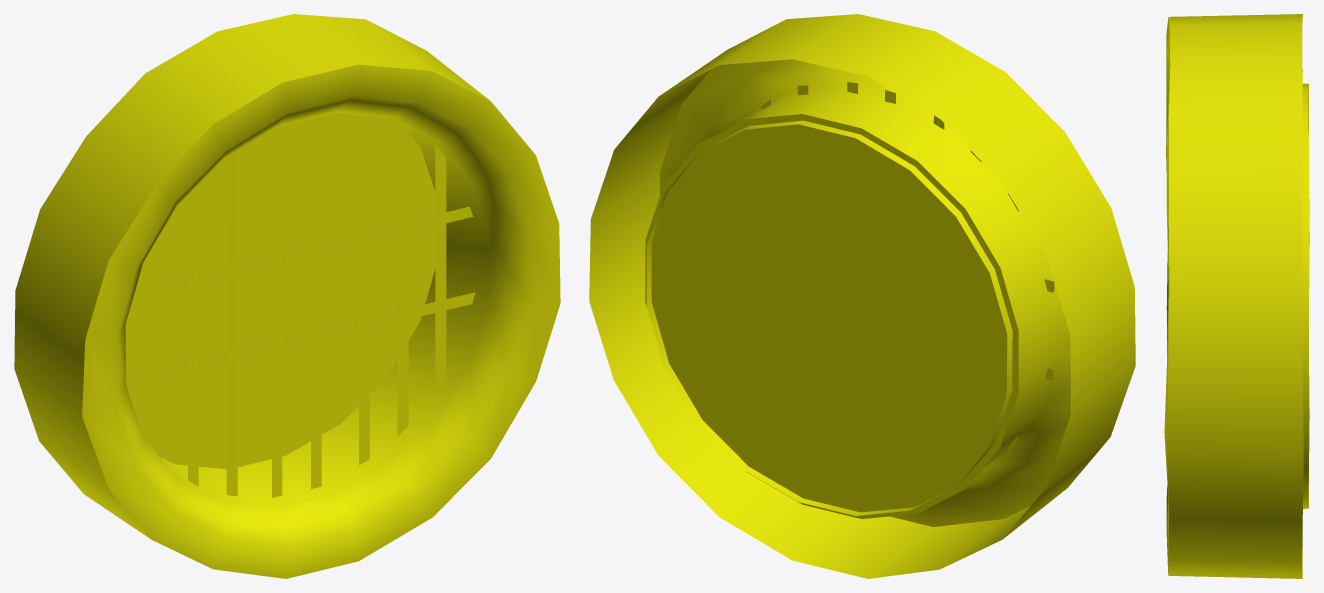
The model's file is MedievalSewerEntranceLOD2.fbx.
3 renders of one model, left to right at view 1: azimuth 30°, elevation 25°; view 2: azimuth 150°, elevation 25°; view 3: azimuth 270°, elevation 25°, orthographic.
Parts seen in each view (by area): view 1: MedievalSewerEntrance_LOD2, Blackwall_LOD2, Bars_LOD2; view 2: MedievalSewerEntrance_LOD2, Blackwall_LOD2, Bars_LOD2; view 3: MedievalSewerEntrance_LOD2.
Part boxes in pixels (<box>): MedievalSewerEntrance_LOD2: <box>14,14,560,578</box>; Blackwall_LOD2: <box>125,112,435,469</box>; Bars_LOD2: <box>126,115,475,497</box>; MedievalSewerEntrance_LOD2: <box>589,14,1135,578</box>; Blackwall_LOD2: <box>645,114,1018,518</box>; Bars_LOD2: <box>731,82,1054,480</box>; MedievalSewerEntrance_LOD2: <box>1164,14,1309,578</box>.
Size of the model in its own units: 307 by 307 by 79.58.
